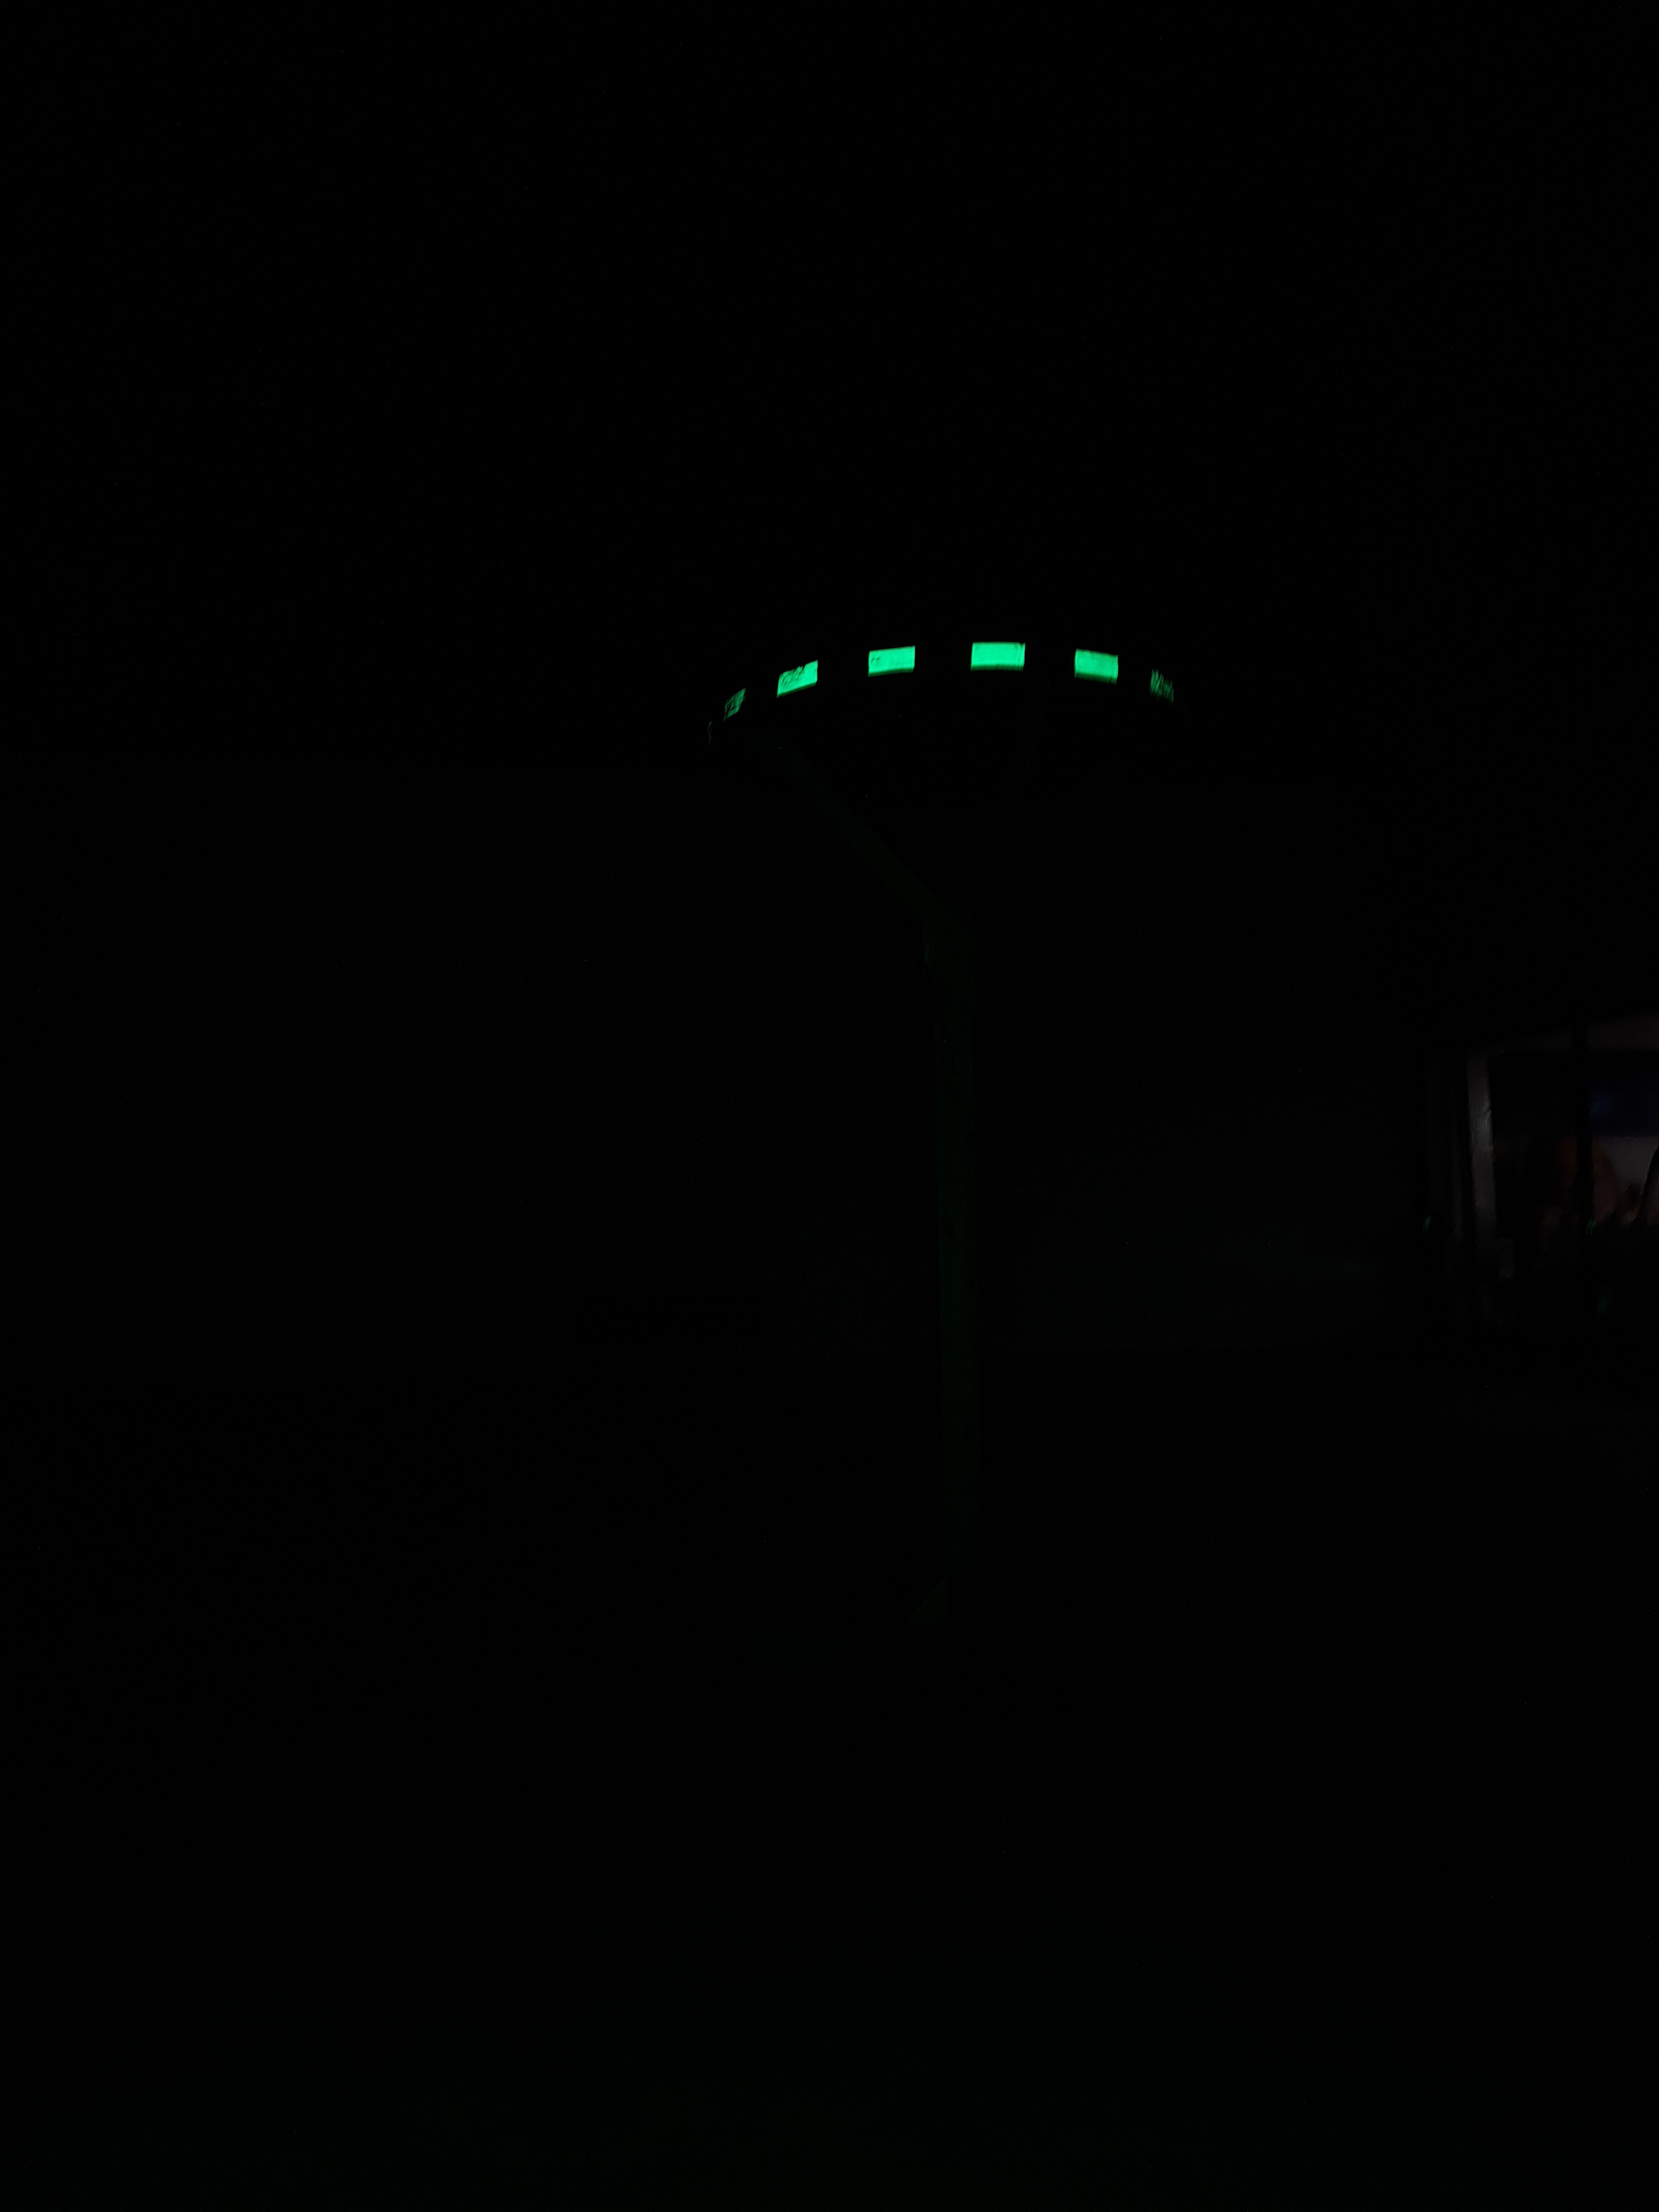hoop: (709, 622, 1208, 737)
